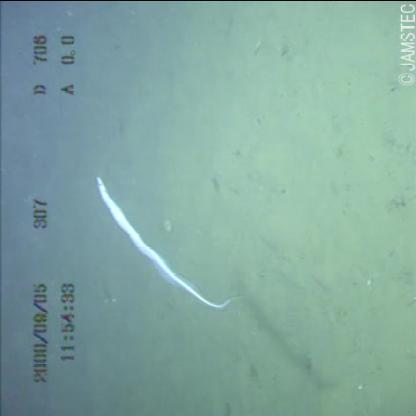Bio: (89, 171, 253, 313)
